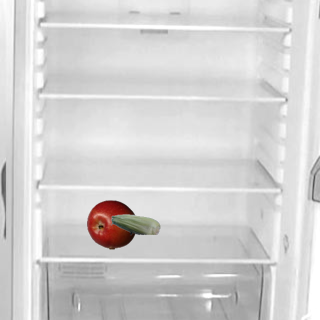Apple Braeburn: (86, 199, 136, 249)
Corn Husk: (110, 199, 160, 249)
